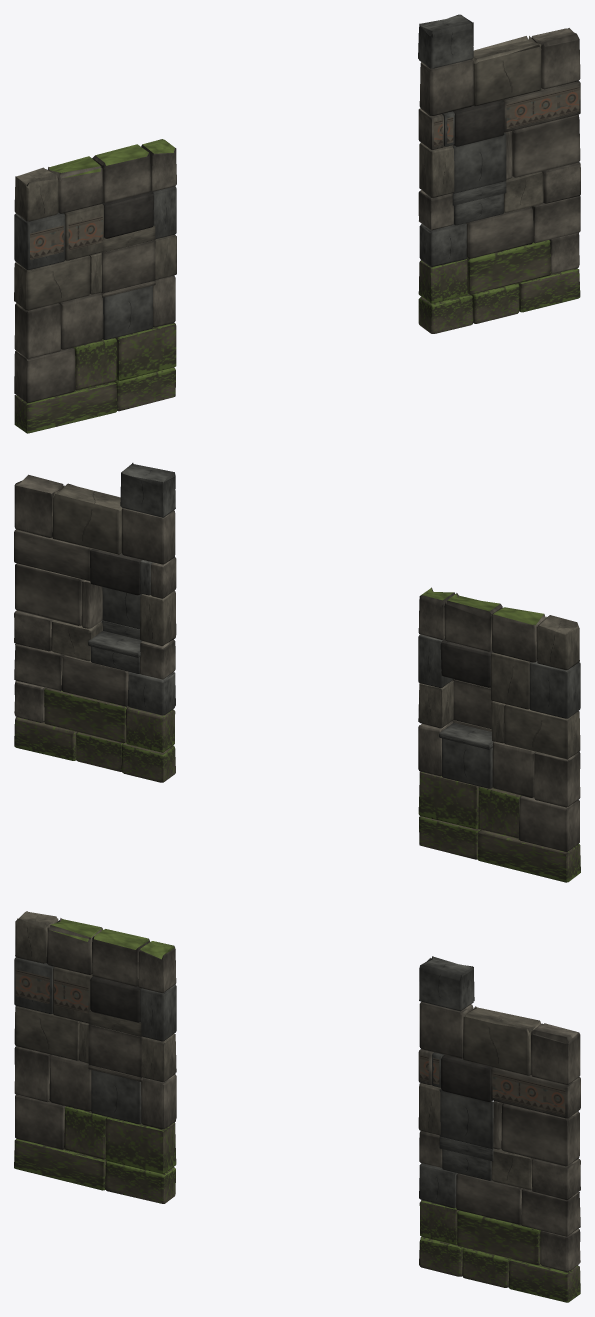
Rendered from THStage_HallPartitions.fbx.
3 renders of one model, top to bottom at view 1: azimuth 30°, elevation 25°; view 2: azimuth 150°, elevation 25°; view 3: azimuth 330°, elevation 25°, orthographic.
Visible parts, largest first — view 1: THStage_HallPartitions; view 2: THStage_HallPartitions; view 3: THStage_HallPartitions.
Part boxes in pixels (box(x1,y1,x2,y2)): THStage_HallPartitions: box(14, 14, 580, 433); THStage_HallPartitions: box(14, 463, 580, 882); THStage_HallPartitions: box(14, 911, 580, 1302).
Bounding box in the file's own units: 4.59 × 2.39 × 0.2366.
